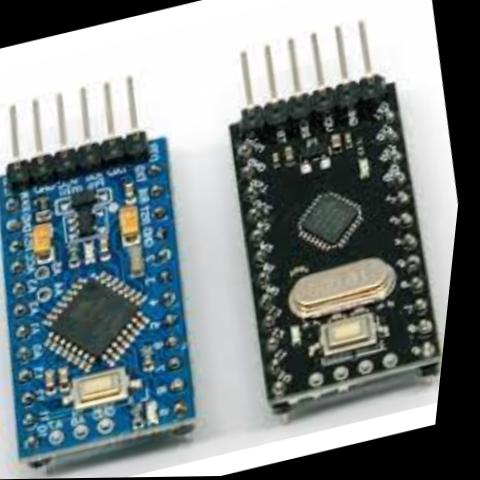Arduino-Pro-Mini: (0, 38, 281, 480)
